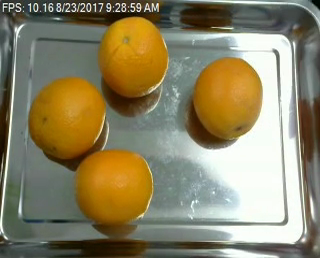Orange: (28, 76, 107, 156), (74, 148, 154, 226), (98, 16, 169, 97), (193, 57, 263, 139)
